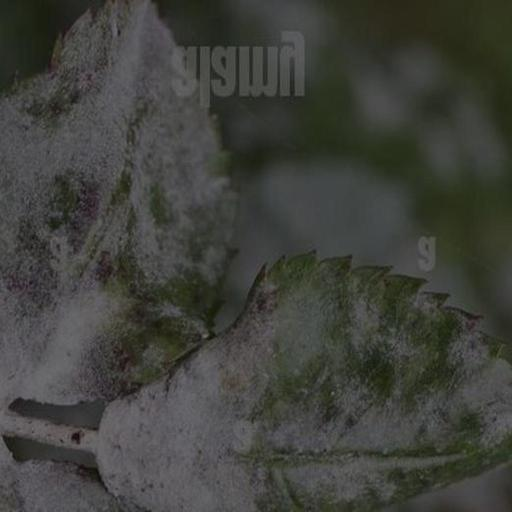powdery_mildew: (96, 255, 512, 512), (0, 0, 234, 406)
